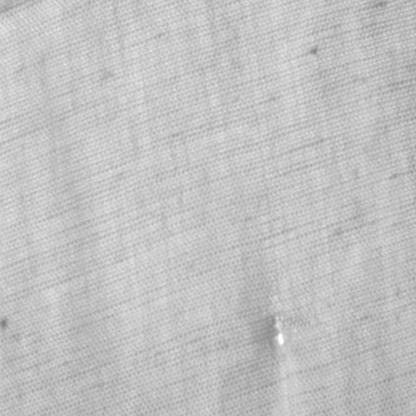hole: (271, 313, 285, 348)
